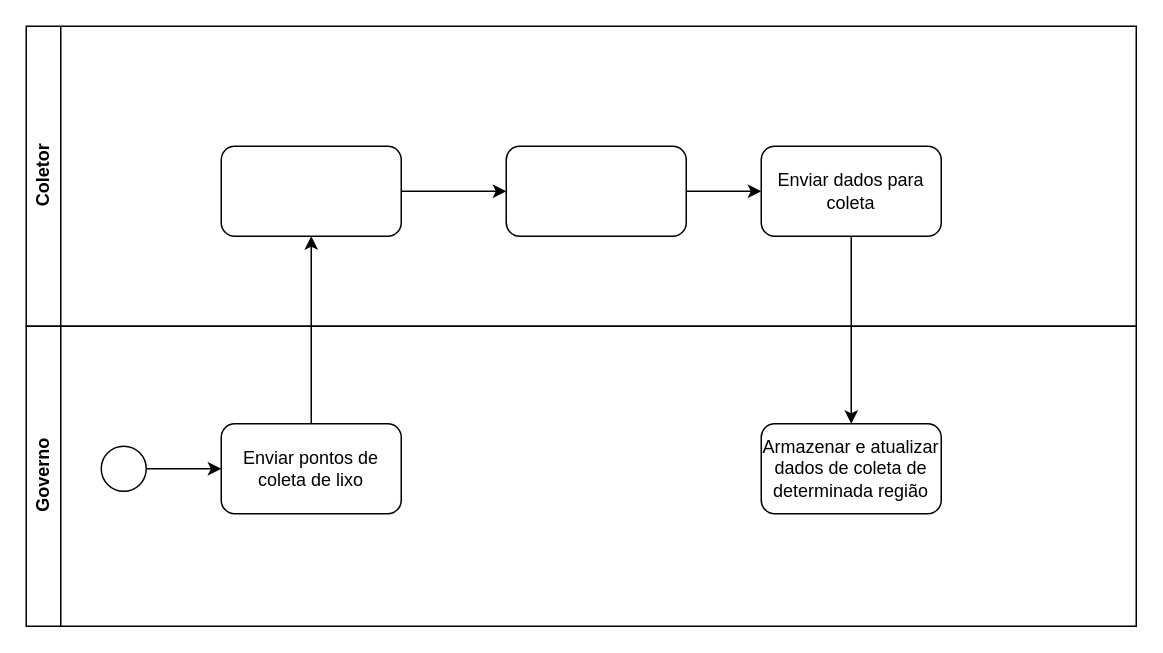
The diagram is 1163 pixels wide and 653 high, and some of its shapes have lost their labels. The shapes that lost their labels are listed below. From the top down, each one's centre as x and y in pixels, then its label:
At point 310,190: "Deslocar até a area de coleta".
At point 595,190: "Realizar a coleta de lixo".
